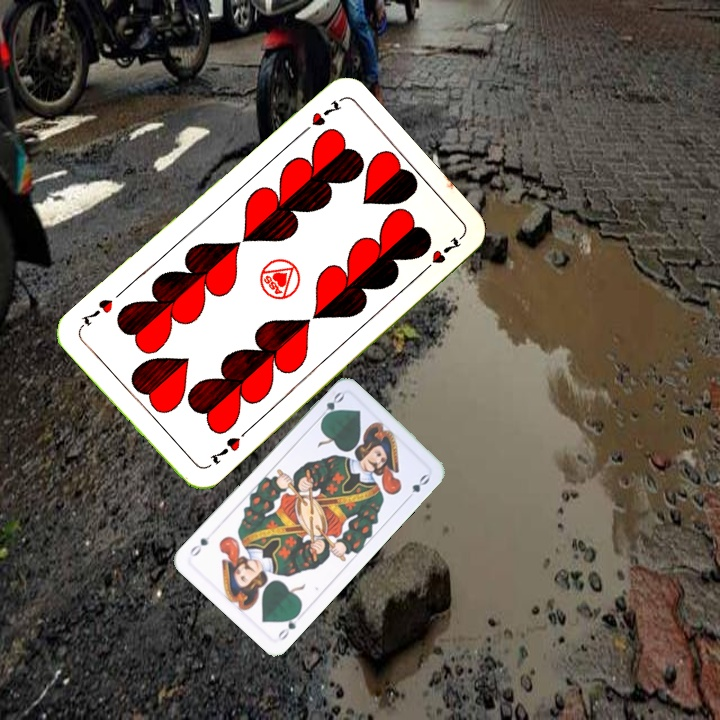GO: (314, 388, 347, 425), (274, 607, 303, 643)
H7: (294, 95, 344, 139), (205, 432, 243, 468)
